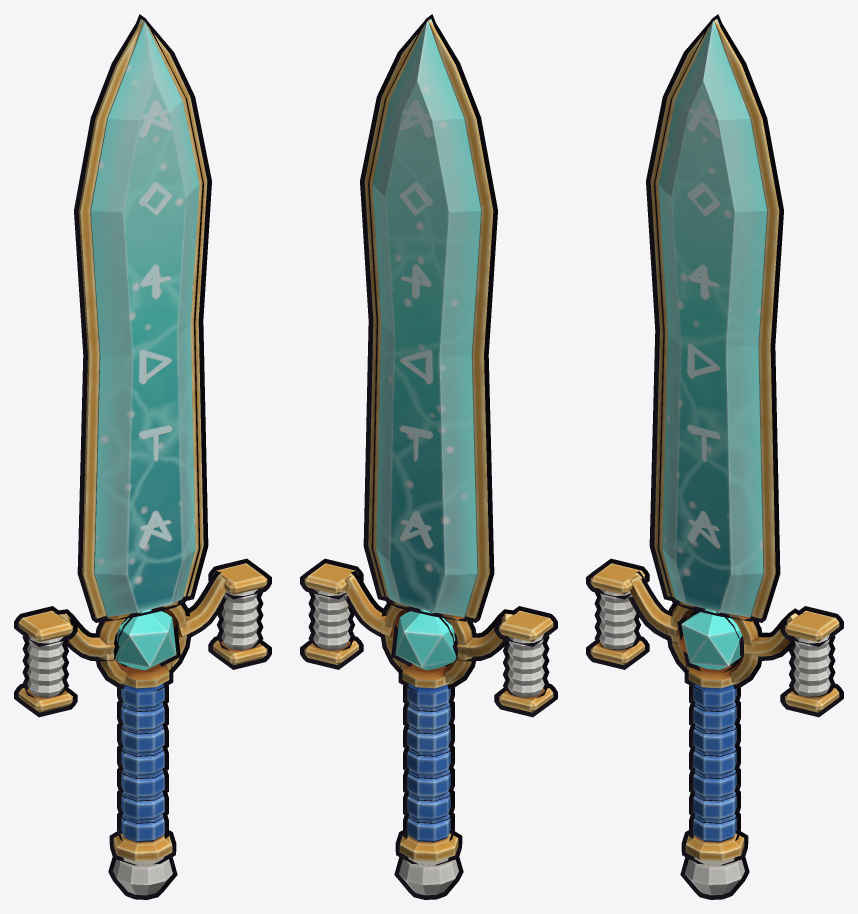
File: AtlanteanBlade.fbx
3 views of the same model, side by side, from view 1: azimuth 30°, elevation 25°; view 2: azimuth 150°, elevation 25°; view 3: azimuth 330°, elevation 25° (orthographic).
Parts seen in each view (by area): view 1: AtlanteanBlade, AtlanteanBladeOutline, AtlanteanBladeAtlantisGlow; view 2: AtlanteanBlade, AtlanteanBladeOutline, AtlanteanBladeAtlantisGlow; view 3: AtlanteanBlade, AtlanteanBladeOutline, AtlanteanBladeAtlantisGlow.
Boxes of the visible parts, left/top/right/bottom form: AtlanteanBlade: left=18, top=19, right=267, bottom=895; AtlanteanBladeOutline: left=14, top=14, right=271, bottom=899; AtlanteanBladeAtlantisGlow: left=115, top=609, right=176, bottom=670; AtlanteanBlade: left=304, top=19, right=553, bottom=895; AtlanteanBladeOutline: left=300, top=14, right=557, bottom=899; AtlanteanBladeAtlantisGlow: left=395, top=609, right=456, bottom=670; AtlanteanBlade: left=590, top=19, right=839, bottom=895; AtlanteanBladeOutline: left=586, top=14, right=843, bottom=899; AtlanteanBladeAtlantisGlow: left=681, top=609, right=742, bottom=669.
Size of the model in its own units: 128 by 450 by 33.52.
Materials: 2 (1 with a texture image).
